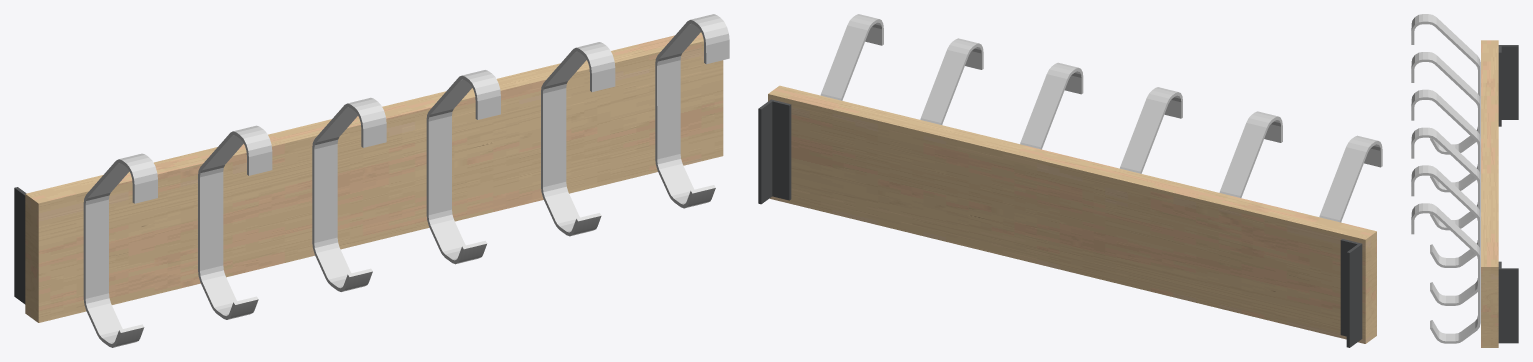
Rendered from Lecolar.glb.
3 views of the same model, side by side, from view 1: azimuth 30°, elevation 25°; view 2: azimuth 150°, elevation 25°; view 3: azimuth 270°, elevation 25° (orthographic). The views are drawn at different scales.
Visible parts, largest first — view 1: Mesh_15_c74b64ac_a387_4e8d_bad5_351630f59162_Ch1, Mesh_3_d79076cf_11a3_4b06_b2f8_08d3dd8a686c, Mesh_7_978afa79_6813_4237_976e_35444ca0e853, Mesh_1_889feb44_fd3c_46aa_9962_83055dd86eb7, Mesh_5_50281b0d_443e_4ec0_9c5f_3113c02fd88e, Mesh_11_1c8e4818_dfa0_459a_8ec8_3f47e4f9cd0f, Mesh_9_04b18eab_e2aa_47e9_af46_182d8afdd8dd, Mesh_17_d3fefa09_6803_40b7_8f13_963cc886ad6a; view 2: Mesh_15_c74b64ac_a387_4e8d_bad5_351630f59162_Ch1, Mesh_13_aca2cfe9_24e1_425d_91e6_67c6e7712b05, Mesh_11_1c8e4818_dfa0_459a_8ec8_3f47e4f9cd0f, Mesh_5_50281b0d_443e_4ec0_9c5f_3113c02fd88e, Mesh_9_04b18eab_e2aa_47e9_af46_182d8afdd8dd, Mesh_7_978afa79_6813_4237_976e_35444ca0e853, Mesh_3_d79076cf_11a3_4b06_b2f8_08d3dd8a686c, Mesh_1_889feb44_fd3c_46aa_9962_83055dd86eb7, Mesh_17_d3fefa09_6803_40b7_8f13_963cc886ad6a; view 3: Mesh_15_c74b64ac_a387_4e8d_bad5_351630f59162_Ch1, Mesh_7_978afa79_6813_4237_976e_35444ca0e853, Mesh_13_aca2cfe9_24e1_425d_91e6_67c6e7712b05, Mesh_17_d3fefa09_6803_40b7_8f13_963cc886ad6a, Mesh_9_04b18eab_e2aa_47e9_af46_182d8afdd8dd, Mesh_11_1c8e4818_dfa0_459a_8ec8_3f47e4f9cd0f, Mesh_5_50281b0d_443e_4ec0_9c5f_3113c02fd88e, Mesh_1_889feb44_fd3c_46aa_9962_83055dd86eb7, Mesh_3_d79076cf_11a3_4b06_b2f8_08d3dd8a686c.
Part boxes in pixels (bbox=[...]): Mesh_15_c74b64ac_a387_4e8d_bad5_351630f59162_Ch1: bbox=[25, 32, 723, 322]; Mesh_3_d79076cf_11a3_4b06_b2f8_08d3dd8a686c: bbox=[198, 125, 272, 319]; Mesh_7_978afa79_6813_4237_976e_35444ca0e853: bbox=[655, 14, 729, 208]; Mesh_1_889feb44_fd3c_46aa_9962_83055dd86eb7: bbox=[312, 97, 386, 291]; Mesh_5_50281b0d_443e_4ec0_9c5f_3113c02fd88e: bbox=[83, 153, 157, 347]; Mesh_11_1c8e4818_dfa0_459a_8ec8_3f47e4f9cd0f: bbox=[426, 70, 500, 264]; Mesh_9_04b18eab_e2aa_47e9_af46_182d8afdd8dd: bbox=[541, 42, 615, 236]; Mesh_17_d3fefa09_6803_40b7_8f13_963cc886ad6a: bbox=[14, 187, 26, 304]; Mesh_15_c74b64ac_a387_4e8d_bad5_351630f59162_Ch1: bbox=[768, 85, 1376, 343]; Mesh_13_aca2cfe9_24e1_425d_91e6_67c6e7712b05: bbox=[758, 99, 791, 204]; Mesh_11_1c8e4818_dfa0_459a_8ec8_3f47e4f9cd0f: bbox=[1020, 62, 1083, 149]; Mesh_5_50281b0d_443e_4ec0_9c5f_3113c02fd88e: bbox=[1319, 135, 1382, 222]; Mesh_9_04b18eab_e2aa_47e9_af46_182d8afdd8dd: bbox=[920, 38, 983, 124]; Mesh_7_978afa79_6813_4237_976e_35444ca0e853: bbox=[820, 14, 883, 100]; Mesh_3_d79076cf_11a3_4b06_b2f8_08d3dd8a686c: bbox=[1219, 111, 1282, 197]; Mesh_1_889feb44_fd3c_46aa_9962_83055dd86eb7: bbox=[1120, 87, 1182, 173]; Mesh_17_d3fefa09_6803_40b7_8f13_963cc886ad6a: bbox=[1340, 239, 1362, 347]; Mesh_15_c74b64ac_a387_4e8d_bad5_351630f59162_Ch1: bbox=[1481, 40, 1498, 347]; Mesh_7_978afa79_6813_4237_976e_35444ca0e853: bbox=[1411, 203, 1480, 343]; Mesh_13_aca2cfe9_24e1_425d_91e6_67c6e7712b05: bbox=[1498, 261, 1518, 343]; Mesh_17_d3fefa09_6803_40b7_8f13_963cc886ad6a: bbox=[1498, 45, 1518, 126]; Mesh_9_04b18eab_e2aa_47e9_af46_182d8afdd8dd: bbox=[1411, 165, 1480, 305]; Mesh_11_1c8e4818_dfa0_459a_8ec8_3f47e4f9cd0f: bbox=[1411, 127, 1480, 267]; Mesh_5_50281b0d_443e_4ec0_9c5f_3113c02fd88e: bbox=[1411, 14, 1480, 154]; Mesh_1_889feb44_fd3c_46aa_9962_83055dd86eb7: bbox=[1411, 89, 1480, 230]; Mesh_3_d79076cf_11a3_4b06_b2f8_08d3dd8a686c: bbox=[1411, 52, 1480, 192].
Size of the model in its own units: 0.599 by 0.1637 by 0.1196.
3 materials, 1 textured.
